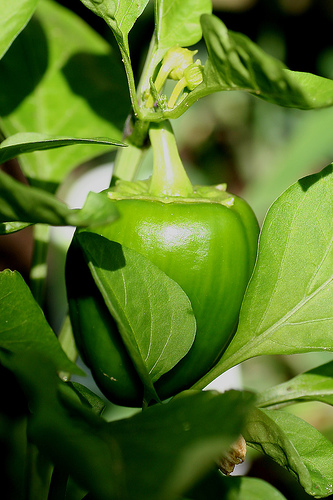capsicum: (66, 122, 261, 407)
